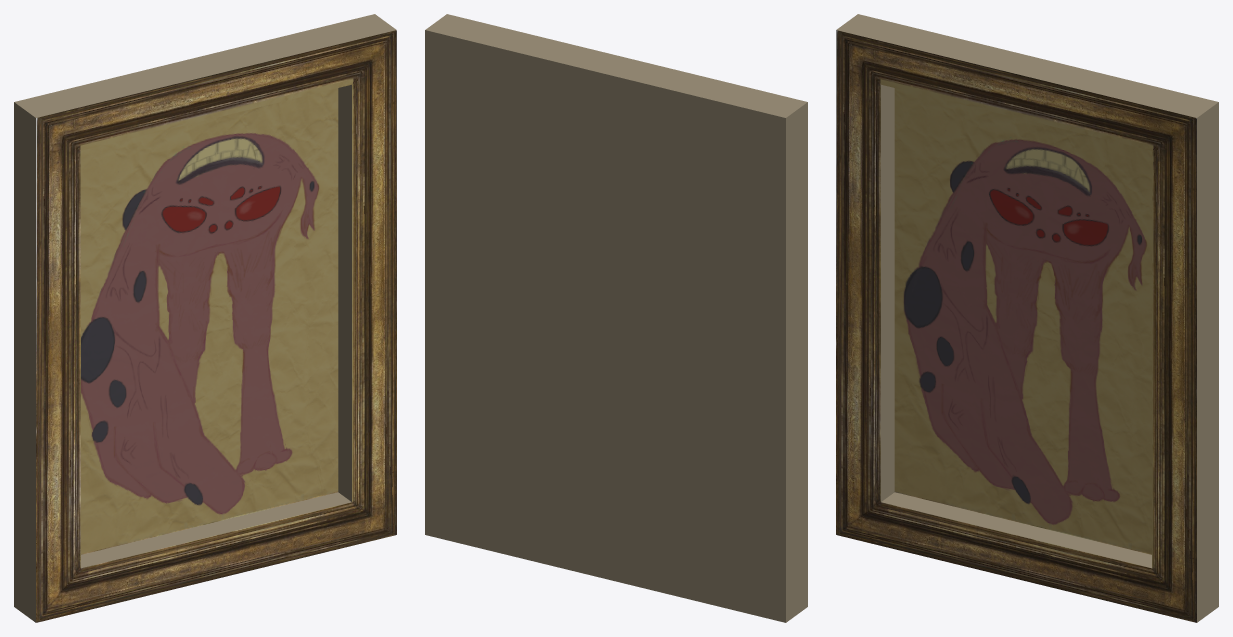
Rendered from MonsterPicture.fbx.
3 renders of one model, left to right at view 1: azimuth 30°, elevation 25°; view 2: azimuth 150°, elevation 25°; view 3: azimuth 330°, elevation 25°, orthographic.
Parts seen in each view (by area): view 1: pCube1; view 2: pCube1; view 3: pCube1.
Boxes of the visible parts, x1,y1,x2,y2 form: pCube1: (14,14,396,622); pCube1: (425,14,807,622); pCube1: (836,14,1218,622).
Bounding box in the file's own units: 5.88 × 7.86 × 0.6194.
Materials: 2 (1 with a texture image).
